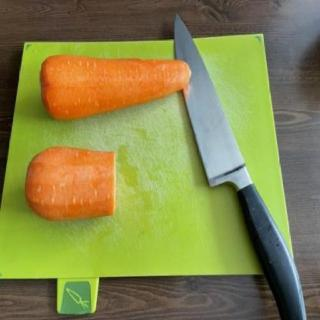carrot: (38, 54, 194, 121), (22, 144, 118, 224)
